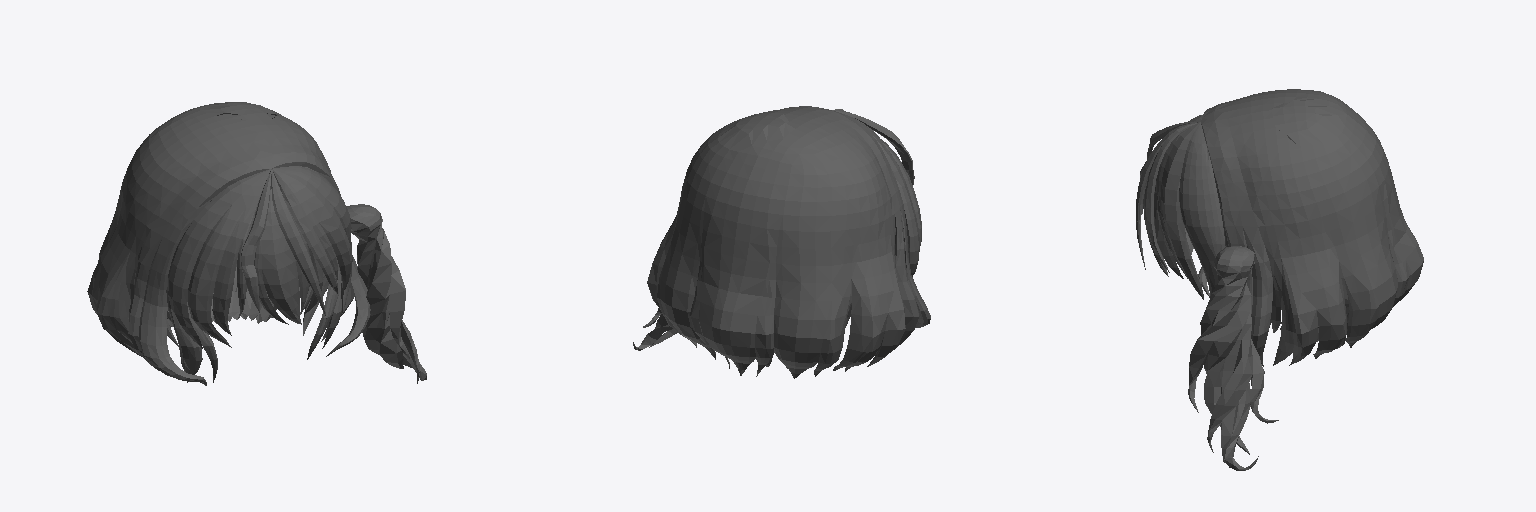
Rendered from hair.obj.
The picture shows the model from 3 angles: view 1: azimuth 30°, elevation 25°; view 2: azimuth 150°, elevation 25°; view 3: azimuth 270°, elevation 25°; orthographic projection.
Visible parts, largest first — view 1: Material14_フランドール_mesh_フランドール.019, Material19_フランドール_mesh_フランドール.007; view 2: Material14_フランドール_mesh_フランドール.019, Material19_フランドール_mesh_フランドール.007; view 3: Material14_フランドール_mesh_フランドール.019, Material19_フランドール_mesh_フランドール.007.
Part boxes in pixels (bbox=[...]): Material14_フランドール_mesh_フランドール.019: bbox=[87, 102, 370, 385]; Material19_フランドール_mesh_フランドール.007: bbox=[346, 204, 426, 383]; Material14_フランドール_mesh_フランドール.019: bbox=[647, 106, 930, 378]; Material19_フランドール_mesh_フランドール.007: bbox=[633, 308, 677, 350]; Material14_フランドール_mesh_フランドール.019: bbox=[1136, 89, 1423, 366]; Material19_フランドール_mesh_フランドール.007: bbox=[1188, 246, 1278, 470].
Size of the model in its own units: 0.3828 by 0.3552 by 0.3228.